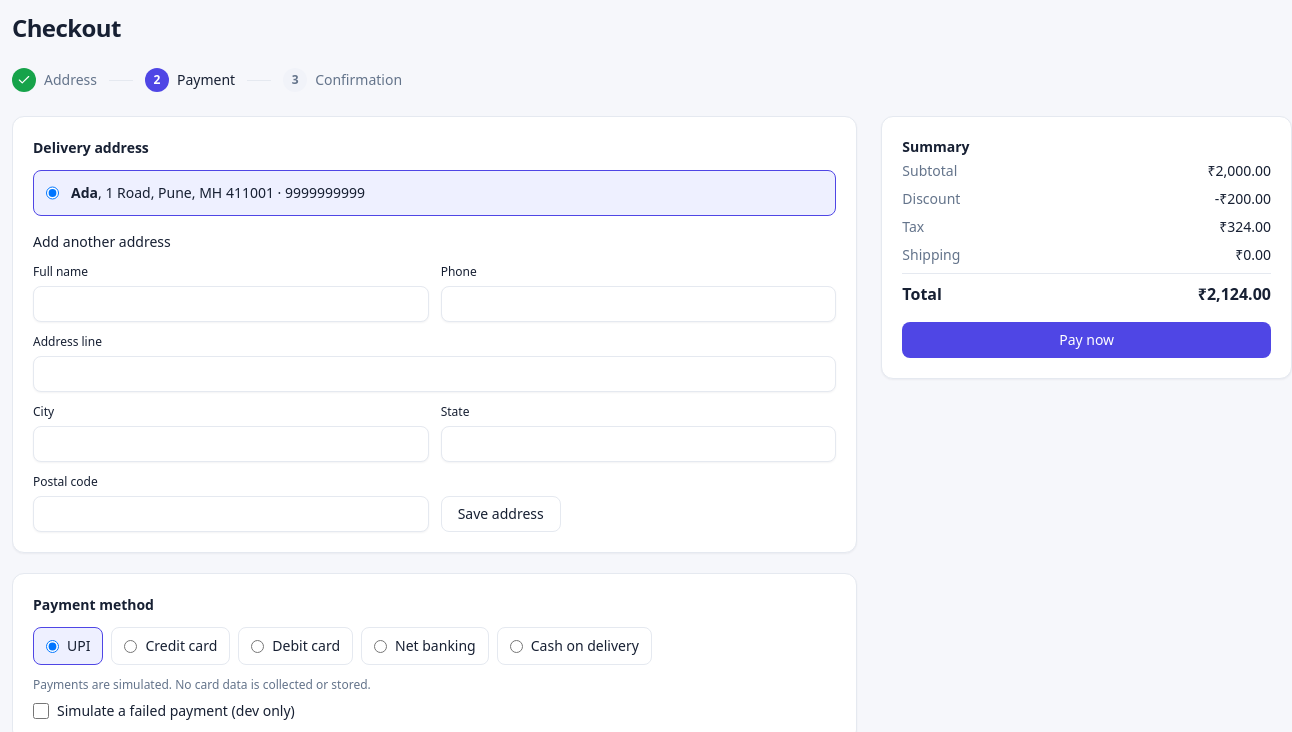
CheckoutPage (idempotent order + payment flow) › shows server-calculated totals and places the order then pays, with idempotency keys
Expected: the text "₹2,124.00" is shown, [1198,282,1271,306]
Click the button "Pay now": [1087, 340] box [902,322,1271,358]
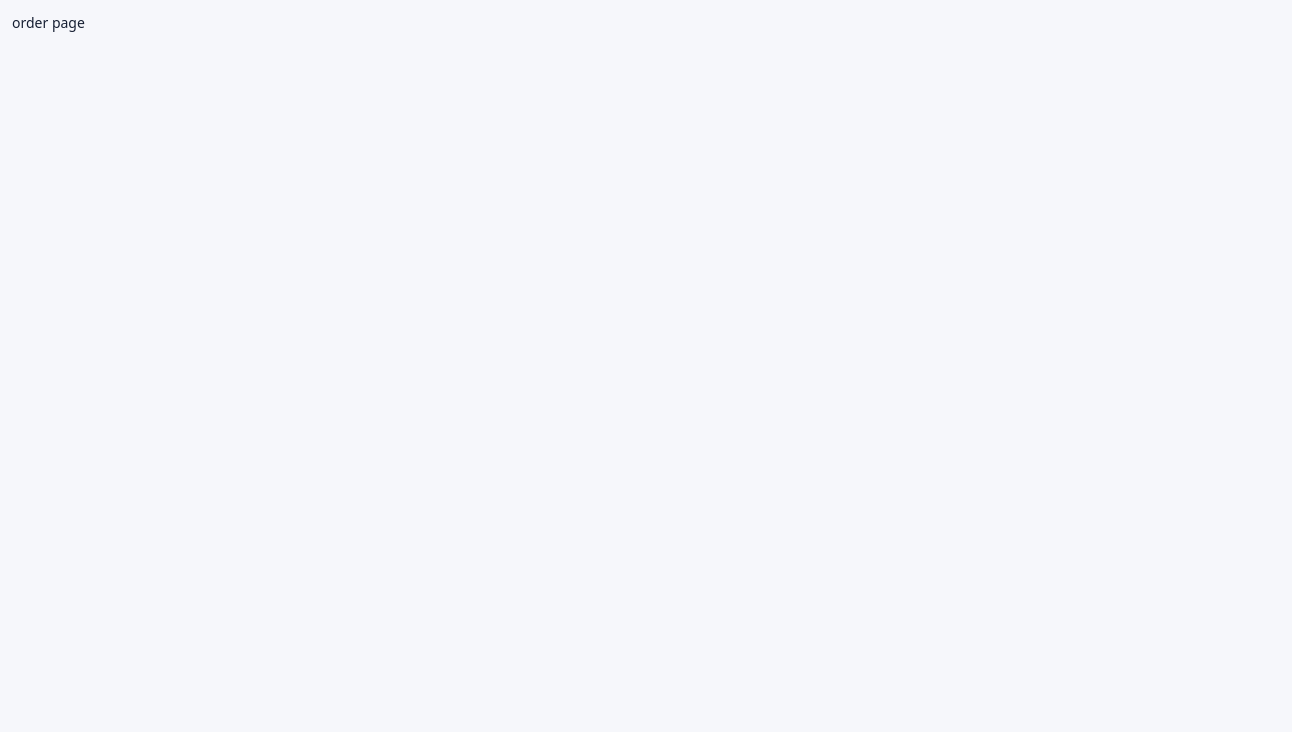
Result: the text "order page" is shown at [12,13,85,32]
